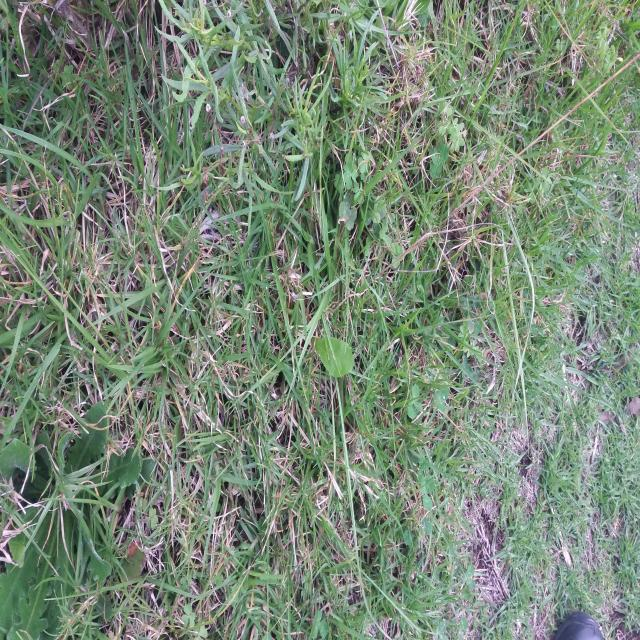Four Leaf Clover: (462, 308, 486, 345), (339, 192, 357, 230)
